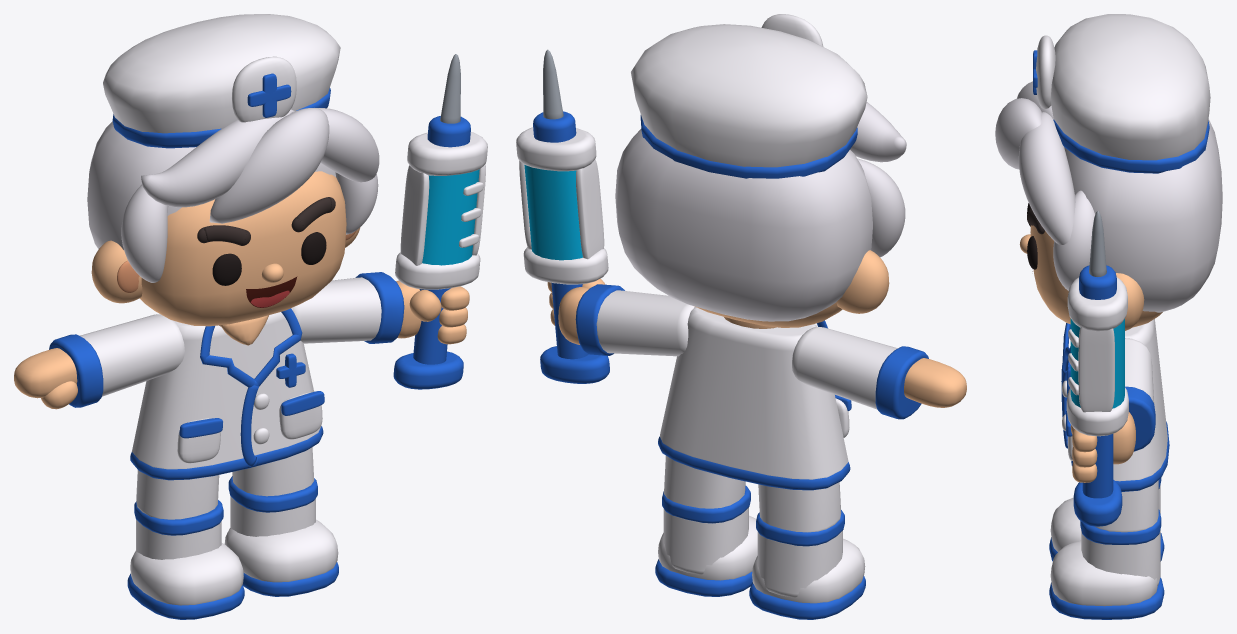
File: enfermeiro.glb
3 renders of one model, left to right at view 1: azimuth 30°, elevation 25°; view 2: azimuth 150°, elevation 25°; view 3: azimuth 270°, elevation 25°, orthographic. The views are drawn at different scales.
Parts seen in each view (by area): view 1: Branco (×5), Cabelo, Pele (×3), Azul (×5), Ciano, Sobrancelhas, Olhos, Metal; view 2: Branco (×5), Cabelo, Azul (×5), Pele (×3), Ciano, Metal; view 3: Branco (×4), Cabelo, Azul (×3), Pele (×2), Ciano, Metal, Olhos.
Boxes of the visible parts, <box> form: Branco (×5): <box>79,14,487,605</box>; Cabelo: <box>87,108,379,282</box>; Pele (×3): <box>14,171,469,409</box>; Azul (×5): <box>49,73,470,619</box>; Ciano: <box>422,169,479,265</box>; Sobrancelhas: <box>197,197,335,245</box>; Olhos: <box>212,232,326,285</box>; Metal: <box>440,54,460,123</box>; Branco (×5): <box>516,14,897,603</box>; Cabelo: <box>615,102,906,321</box>; Azul (×5): <box>533,111,928,619</box>; Pele (×3): <box>547,250,966,407</box>; Ciano: <box>524,165,582,260</box>; Metal: <box>543,49,563,119</box>; Branco (×4): <box>1036,14,1210,606</box>; Cabelo: <box>995,81,1222,312</box>; Azul (×3): <box>1033,50,1209,619</box>; Pele (×2): <box>1019,225,1162,482</box>; Ciano: <box>1070,318,1124,408</box>; Metal: <box>1089,211,1106,276</box>; Olhos: <box>1027,203,1037,269</box>.
Size of the model in its own units: 0.1266 by 0.1465 by 0.0559.
